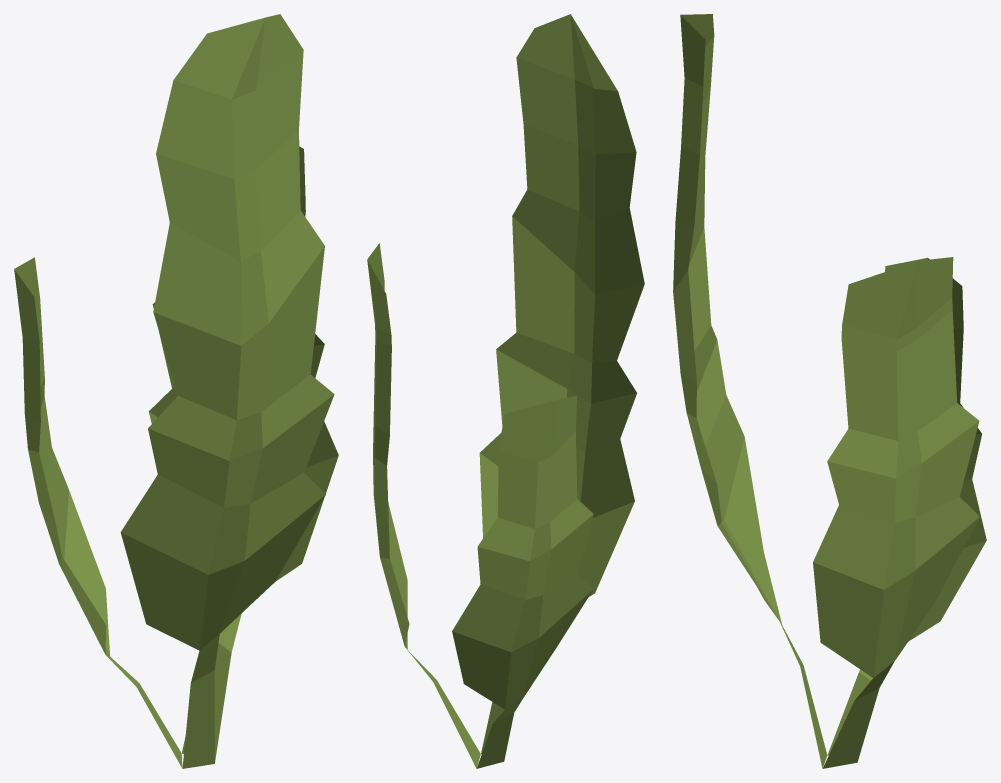
Rendered from sea-grass_02.fbx.
The picture shows the model from 3 angles, left to right: view 1: azimuth 30°, elevation 25°; view 2: azimuth 150°, elevation 25°; view 3: azimuth 270°, elevation 25°; orthographic projection. The views are drawn at different scales.
Visible parts, largest first — view 1: sea-grass_02; view 2: sea-grass_02; view 3: sea-grass_02.
Part boxes in pixels (left/top/right/bottom): sea-grass_02: left=14, top=14, right=338, bottom=768; sea-grass_02: left=367, top=14, right=644, bottom=768; sea-grass_02: left=673, top=14, right=986, bottom=768.
Bounding box in the file's own units: 70.68 × 201 × 76.95.
